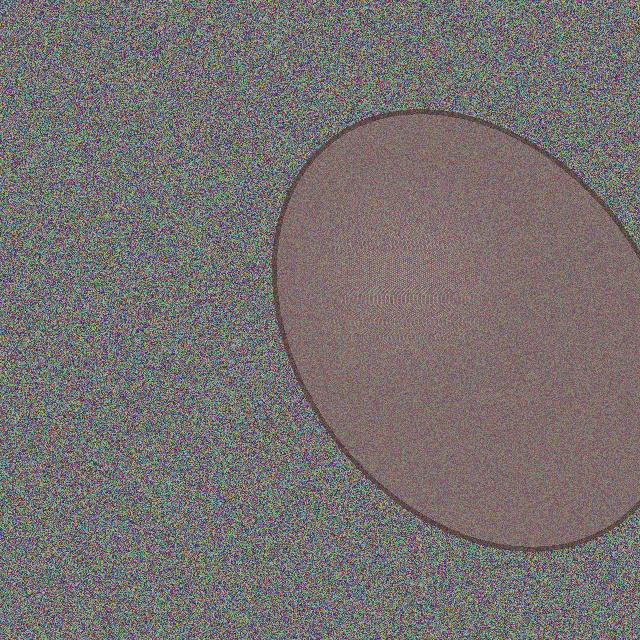lens: (274, 111, 640, 549)
